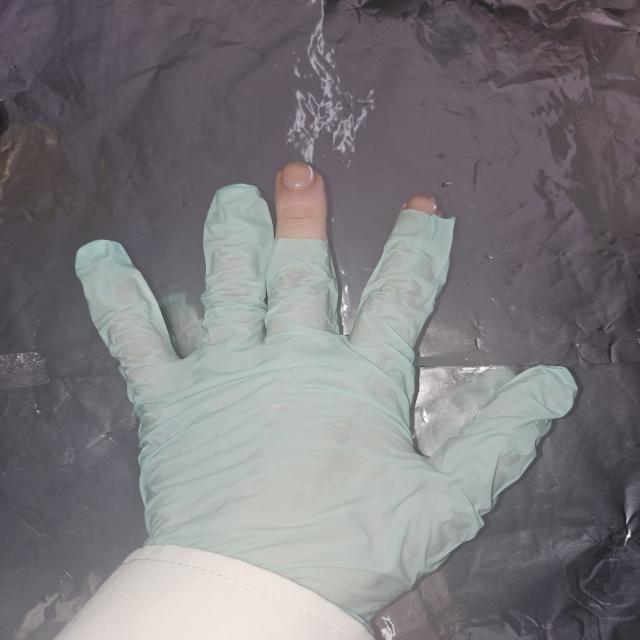gloves_damaged: (76, 157, 580, 634)
